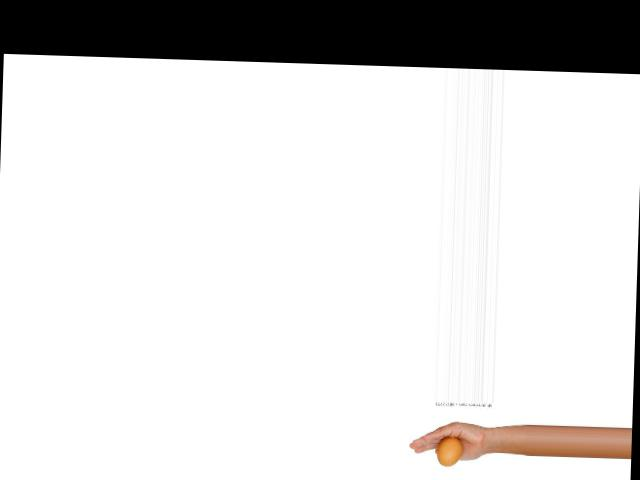egg: (436, 435, 462, 466)
